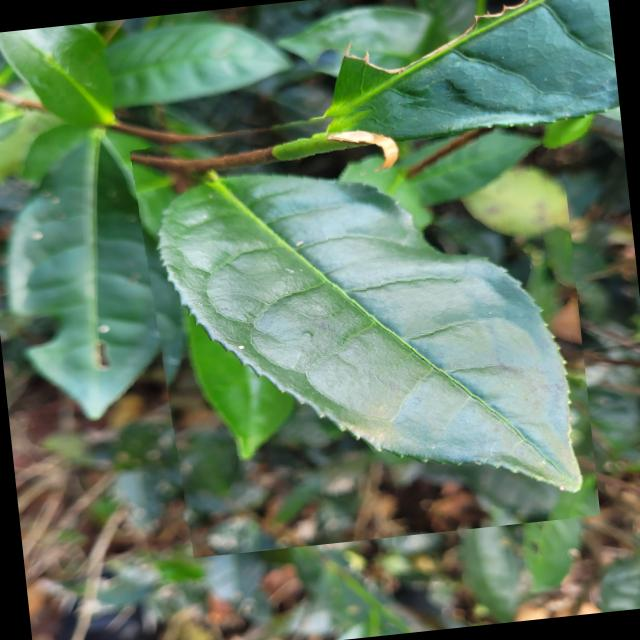Category D(7+ days, Not for Tea): (126, 77, 600, 560)
